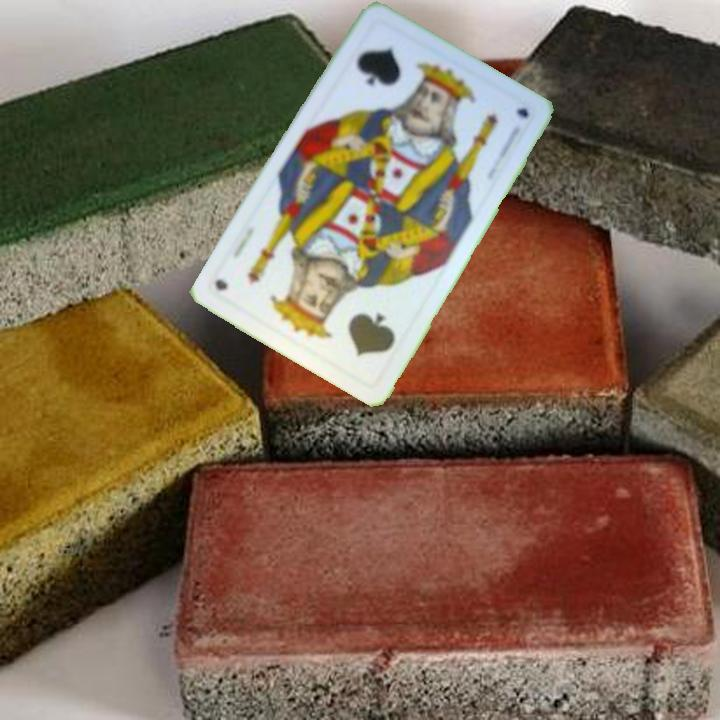s_k.png: (327, 15, 454, 138), (289, 266, 416, 389)
